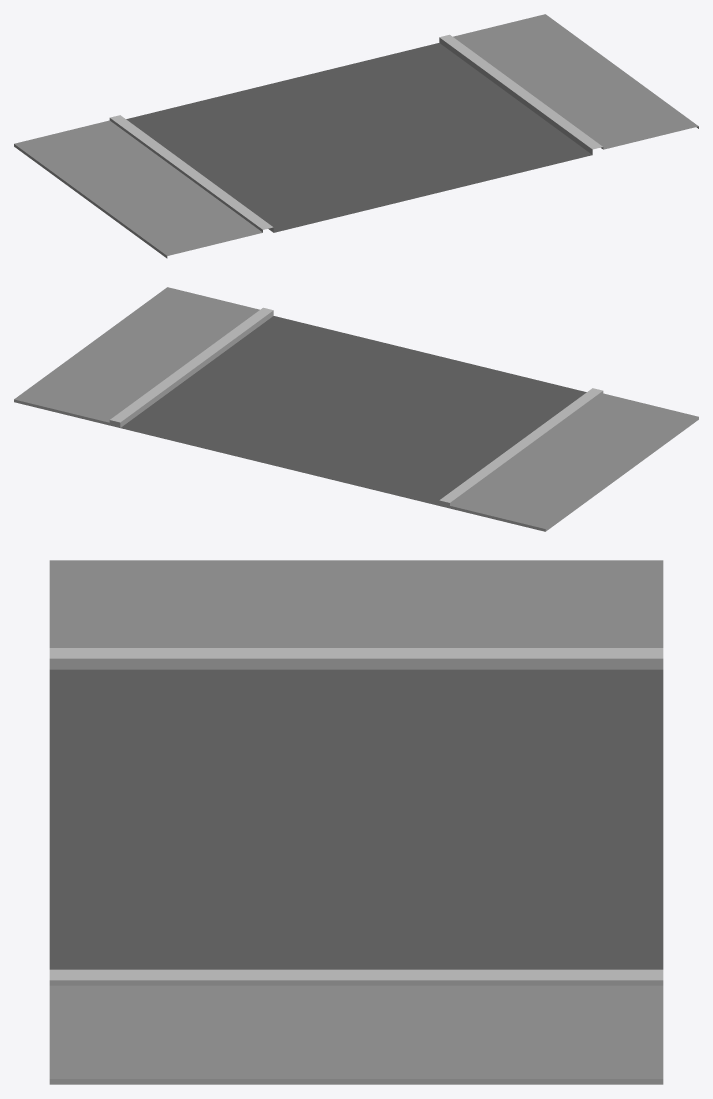
Rendered from street_3x10.fbx.
3 renders of one model, top to bottom at view 1: azimuth 30°, elevation 25°; view 2: azimuth 150°, elevation 25°; view 3: azimuth 270°, elevation 25°, orthographic. The views are drawn at different scales.
Parts seen in each view (by area): view 1: street_3x10; view 2: street_3x10; view 3: street_3x10.
Boxes of the visible parts, left/top/right/bottom form: street_3x10: left=14, top=14, right=698, bottom=258; street_3x10: left=14, top=287, right=698, bottom=531; street_3x10: left=49, top=560, right=663, bottom=1084.
Size of the model in its own units: 20 by 0.2 by 10.
